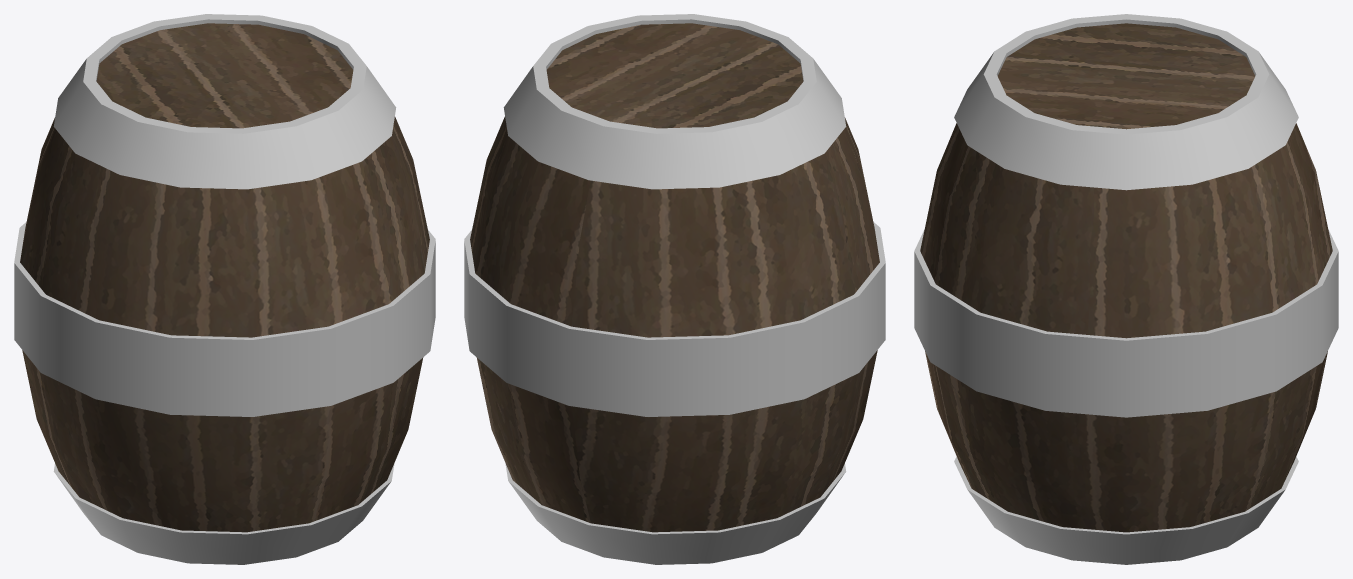
The model's file is Tonneau.fbx.
The picture shows the model from 3 angles, left to right: view 1: azimuth 30°, elevation 25°; view 2: azimuth 150°, elevation 25°; view 3: azimuth 270°, elevation 25°; orthographic projection.
Visible parts, largest first — view 1: Tonneau; view 2: Tonneau; view 3: Tonneau.
Boxes of the visible parts, x1=… form: Tonneau: x1=14, y1=14, x2=435, y2=564; Tonneau: x1=464, y1=14, x2=885, y2=564; Tonneau: x1=914, y1=14, x2=1338, y2=564.
Bounding box in the file's own units: 89.41 × 100 × 89.41.
